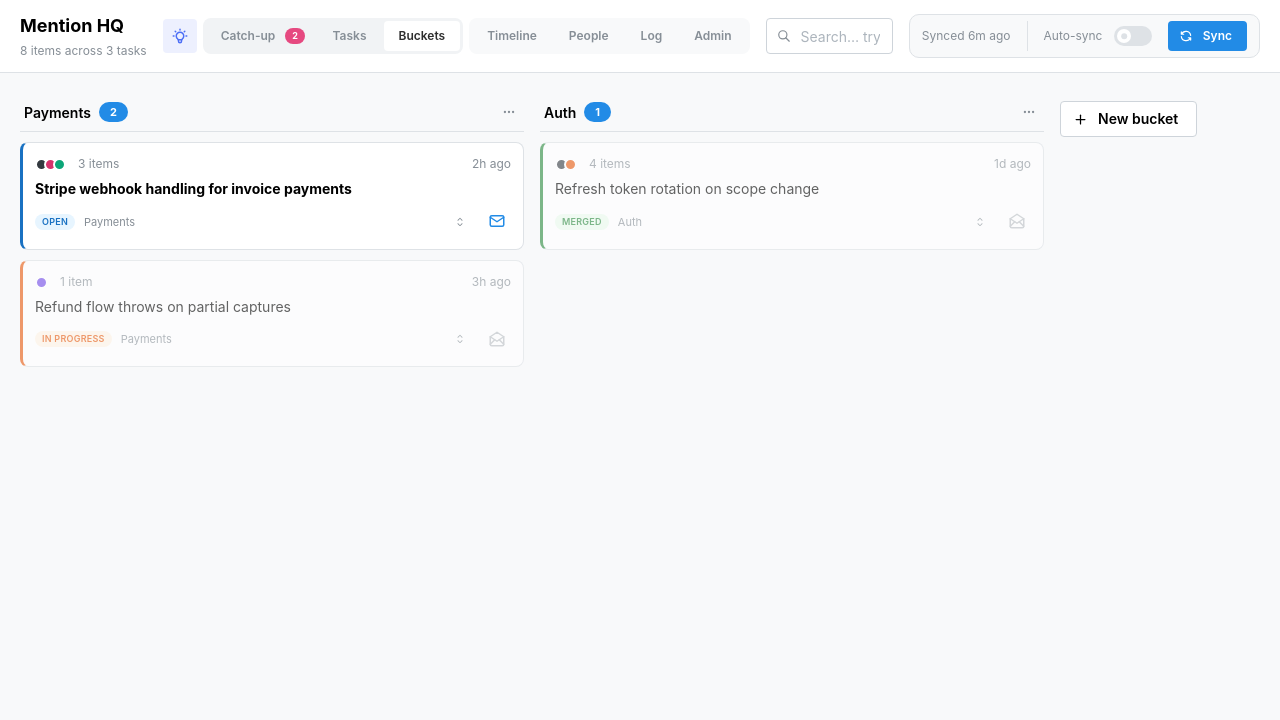
Test: WelcomeView › is where the header title takes you
This screenshot has width=1280, height=720.
Click the link "Mention HQ" at (72, 26), box [20, 15, 124, 36]
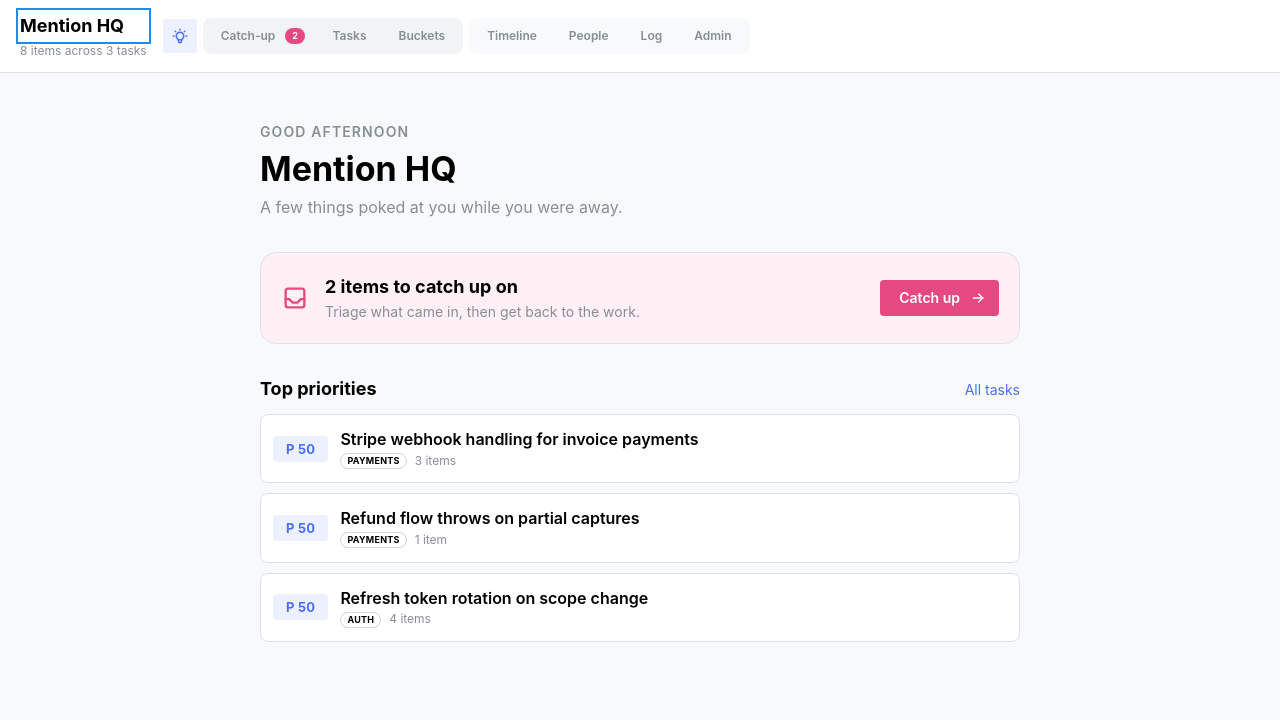
Now the heading "Top priorities" is shown, box [260, 376, 376, 402]
